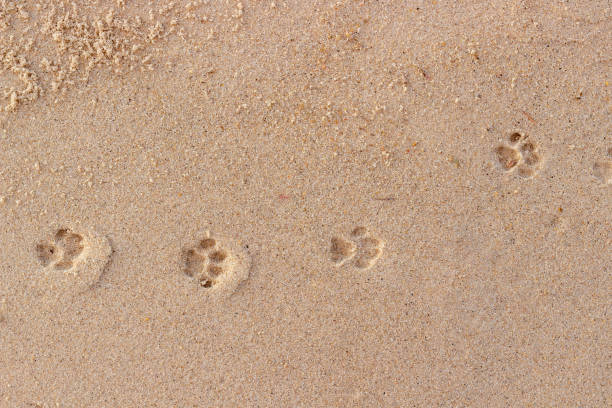animal_footprint: (34, 227, 111, 289), (183, 232, 249, 290), (330, 226, 383, 268), (495, 132, 541, 177), (35, 228, 83, 269), (592, 160, 611, 183)
